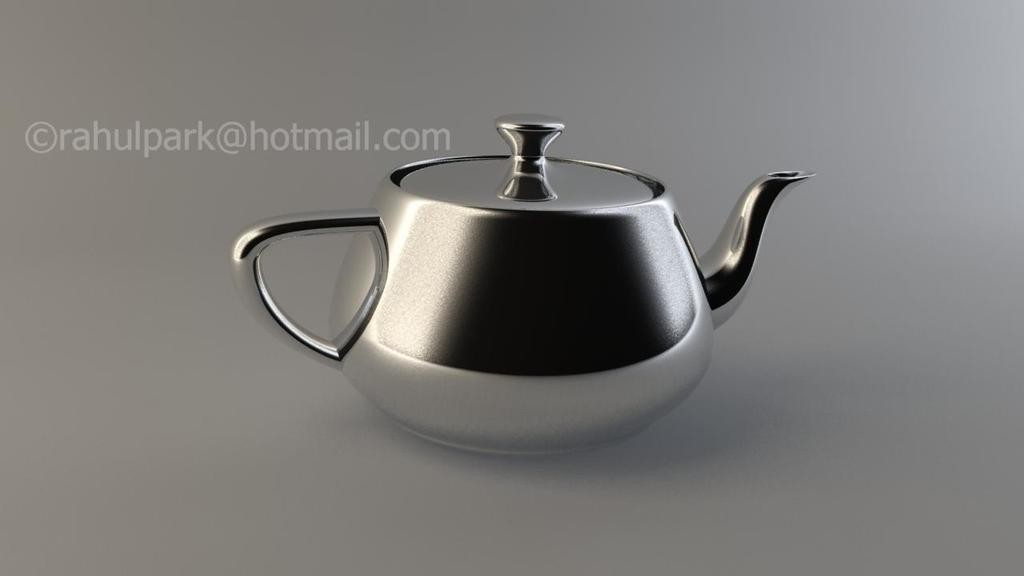teapot: (231, 112, 816, 458)
